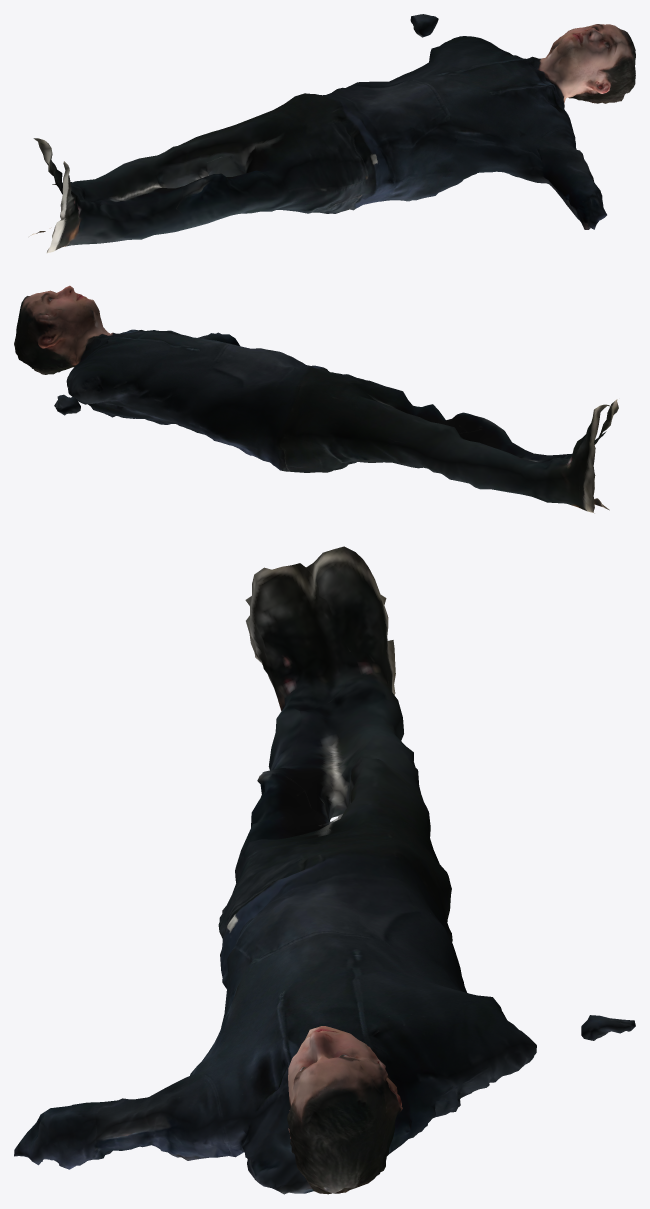
File: Dorion.glb
3 renders of one model, top to bottom at view 1: azimuth 30°, elevation 25°; view 2: azimuth 150°, elevation 25°; view 3: azimuth 270°, elevation 25°, orthographic. The views are drawn at different scales.
Visible parts, largest first — view 1: Mesh_0; view 2: Mesh_0; view 3: Mesh_0.
Part boxes in pixels (x1,y1,x2,y2): Mesh_0: (29,14,635,253); Mesh_0: (14,285,618,513); Mesh_0: (14,546,635,1194).
Size of the model in its own units: 3.77 by 0.8273 by 2.
1 material, 1 textured.
